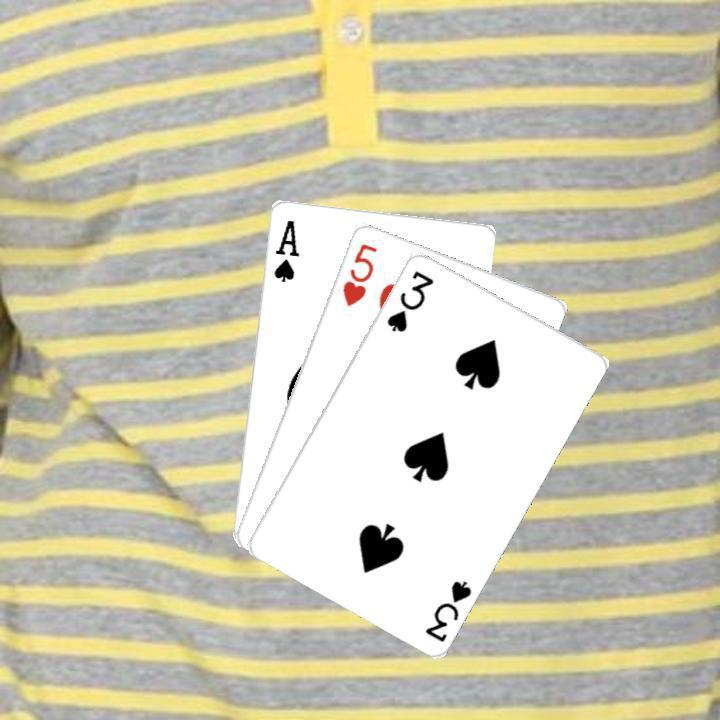3: (382, 265, 436, 334), (420, 575, 474, 644)
5: (337, 238, 380, 308)
A: (269, 214, 301, 283)
